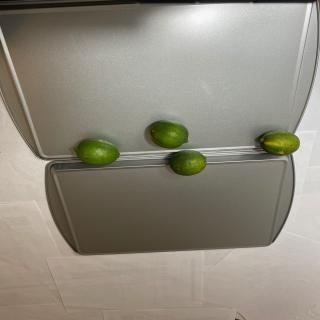Apple: (260, 130, 300, 156), (169, 150, 207, 176)
Lemon: (74, 138, 120, 166), (149, 120, 189, 148)
